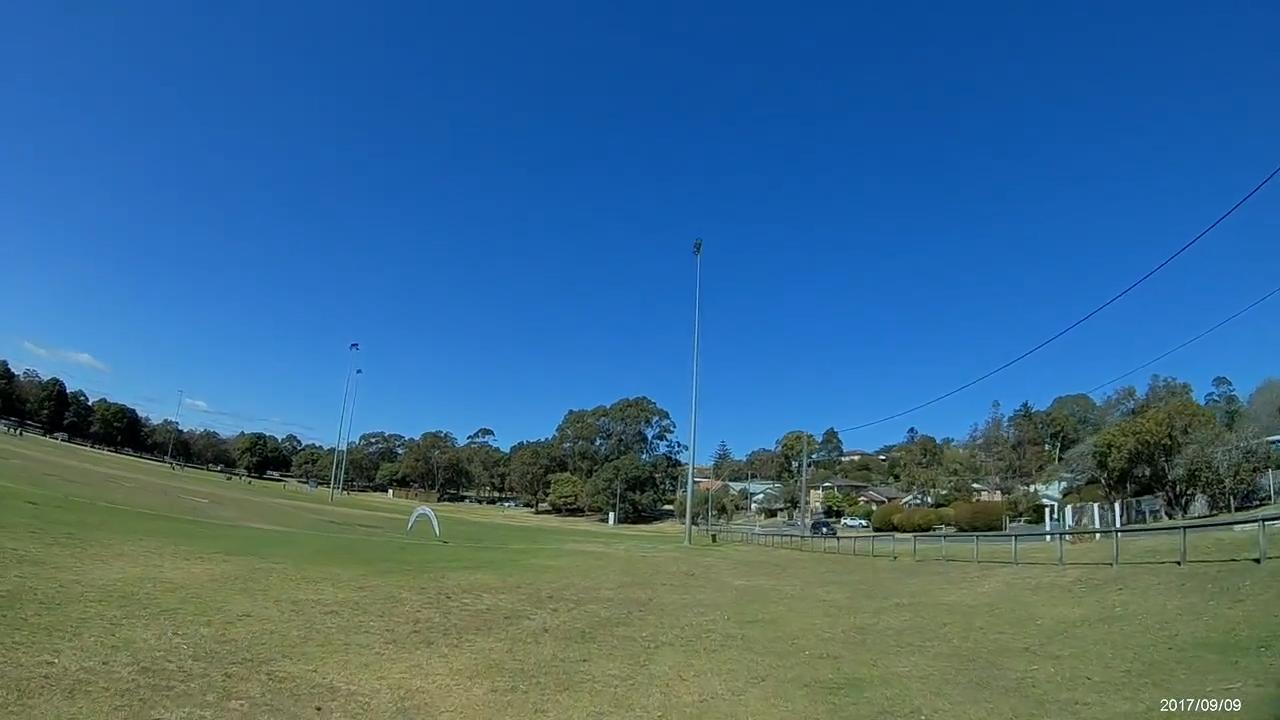gate: (404, 506, 440, 539)
